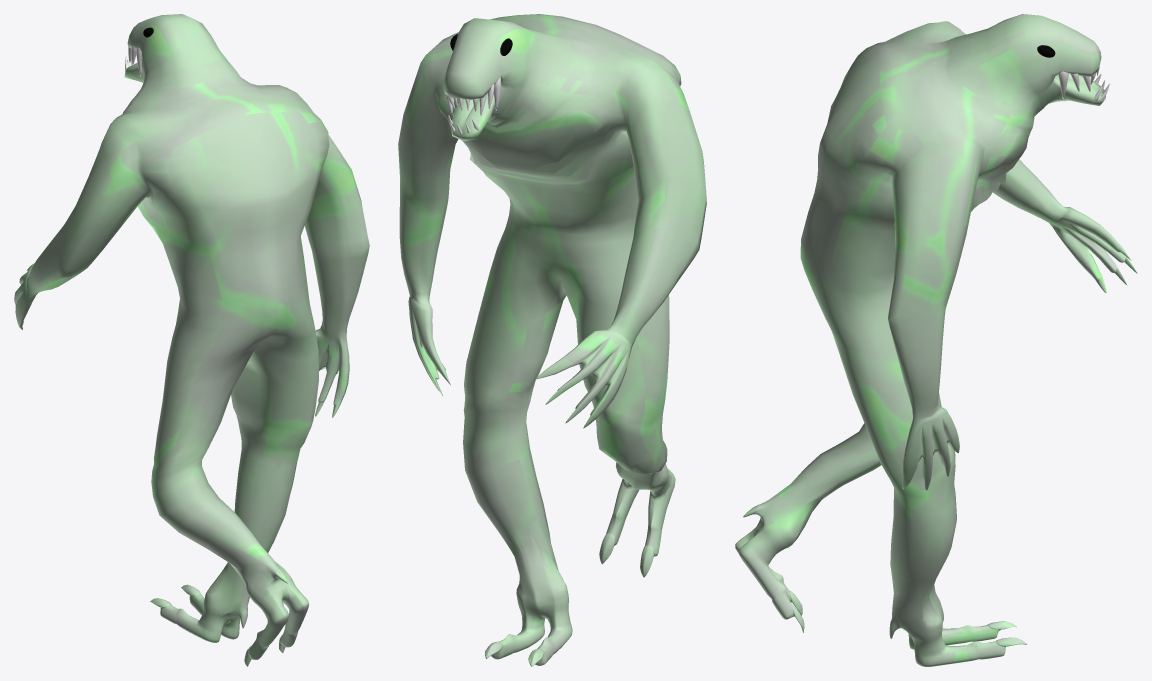
The model's file is Berserkerandar.0035.obj.
3 renders of one model, left to right at view 1: azimuth 30°, elevation 25°; view 2: azimuth 150°, elevation 25°; view 3: azimuth 270°, elevation 25°, orthographic. The views are drawn at different scales.
Parts seen in each view (by area): view 1: polySurface27; view 2: polySurface27; view 3: polySurface27.
Boxes of the visible parts, x1,y1,x2,y2 form: polySurface27: (14,14,369,666); polySurface27: (398,14,706,666); polySurface27: (735,14,1137,666).
Bounding box in the file's own units: 11.72 × 23.44 × 13.32.
1 material, 1 textured.
